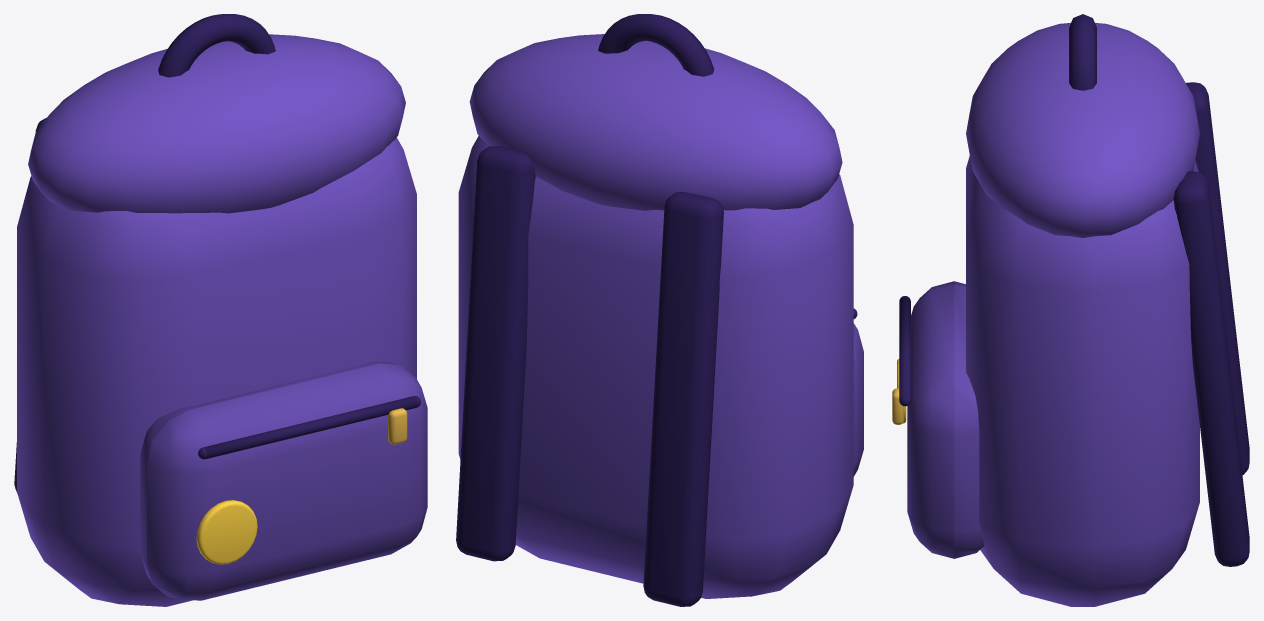
The model's file is item_backpack.fbx.
3 views of the same model, side by side, from view 1: azimuth 30°, elevation 25°; view 2: azimuth 150°, elevation 25°; view 3: azimuth 270°, elevation 25° (orthographic). The views are drawn at different scales.
Visible parts, largest first — view 1: item_backpack; view 2: item_backpack; view 3: item_backpack.
Boxes of the visible parts, <box> form: item_backpack: <box>14,14,427,606</box>; item_backpack: <box>456,14,863,606</box>; item_backpack: <box>892,14,1249,606</box>.
Size of the model in its own units: 0.34 by 0.507 by 0.3055.
